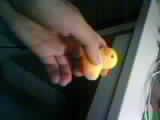duck: (71, 35, 117, 81)
